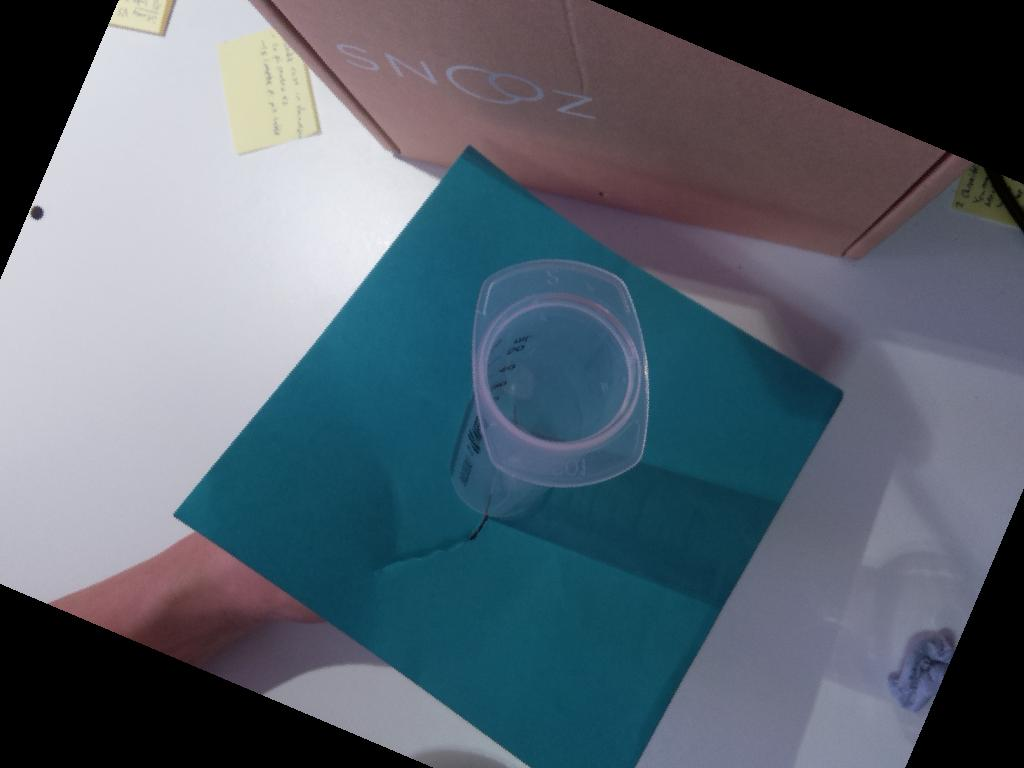clean: (470, 258, 651, 487)
